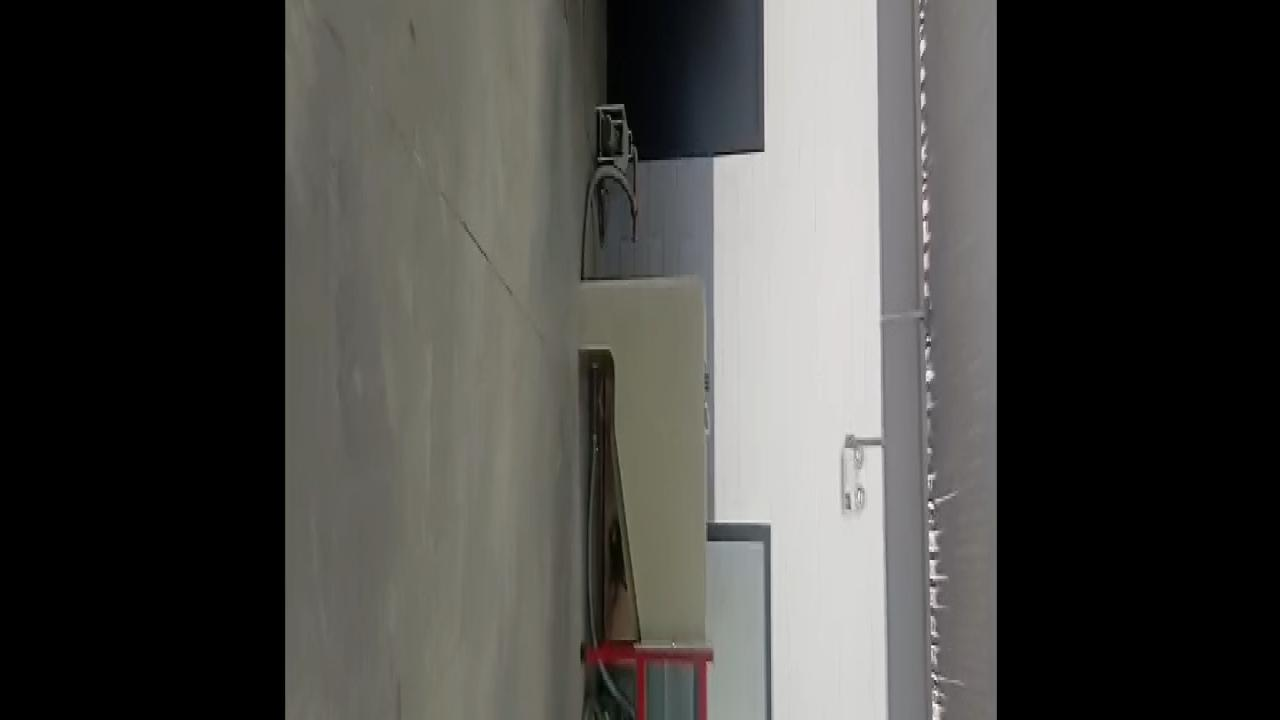Cube: (703, 372, 709, 392)
